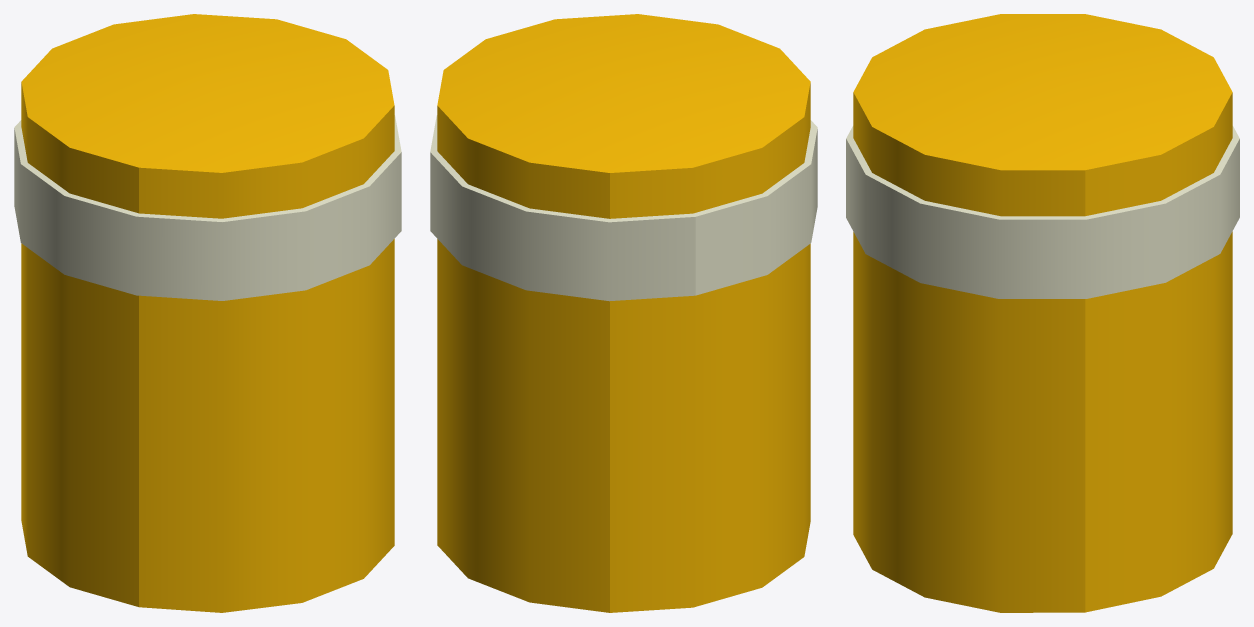
The model's file is refinery_tank1.fbx.
The picture shows the model from 3 angles, left to right: view 1: azimuth 30°, elevation 25°; view 2: azimuth 150°, elevation 25°; view 3: azimuth 270°, elevation 25°; orthographic projection.
Visible parts, largest first — view 1: refinery_tank1; view 2: refinery_tank1; view 3: refinery_tank1.
Part boxes in pixels (x1,y1,x2,y2): refinery_tank1: [14, 14, 401, 612]; refinery_tank1: [430, 14, 817, 612]; refinery_tank1: [846, 14, 1239, 612].
Bounding box in the file's own units: 433 × 567 × 444.
